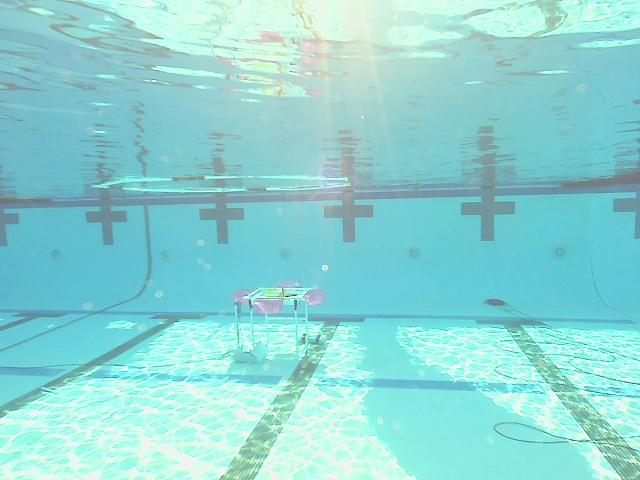table: (233, 279, 326, 356)
